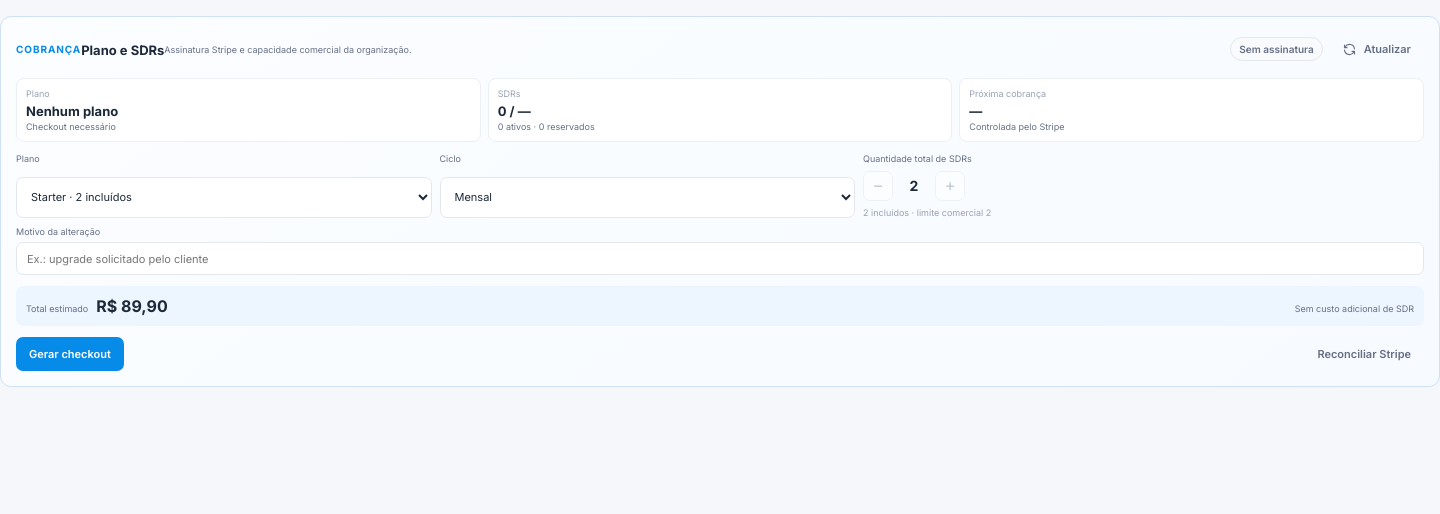
Scenario: gera checkout administrativo com plano e quantidade de SDRs selecionados
Expected: the text "Nenhum plano" is shown, [26, 103, 118, 119]
Select "Growth · 5 incluídos" in the dropdown labelled "Plano" at (224, 197), box [16, 176, 432, 218]
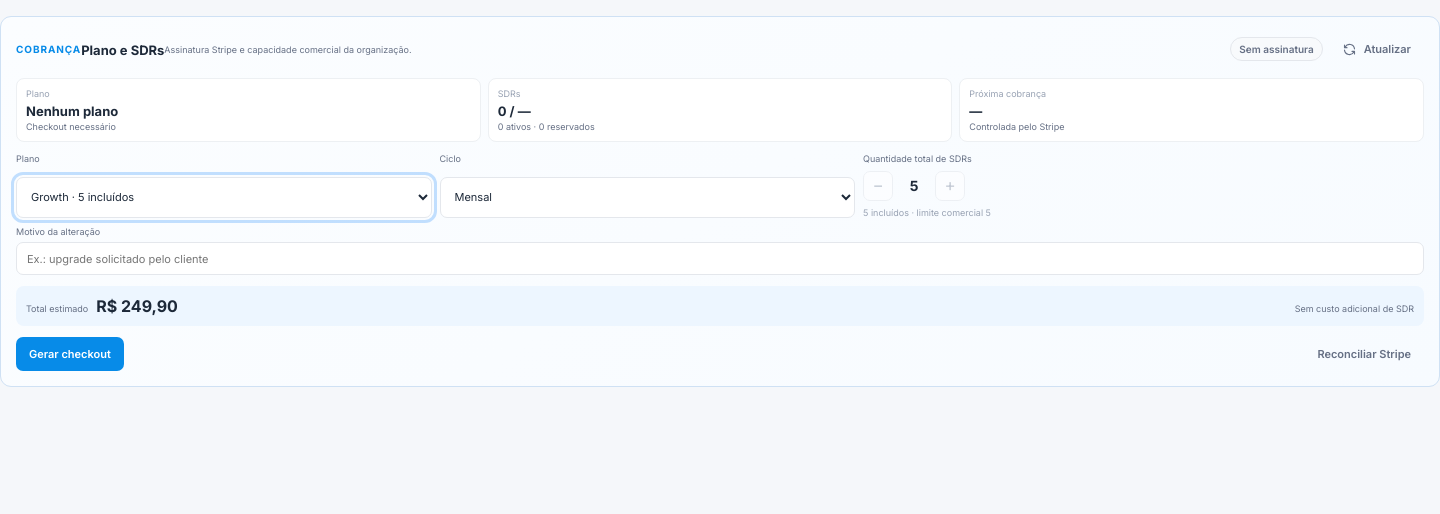
Type "Ativação comercial" into the field with placeholder "Ex.: upgrade solicitado pelo cliente" at (720, 258), box [16, 242, 1424, 275]
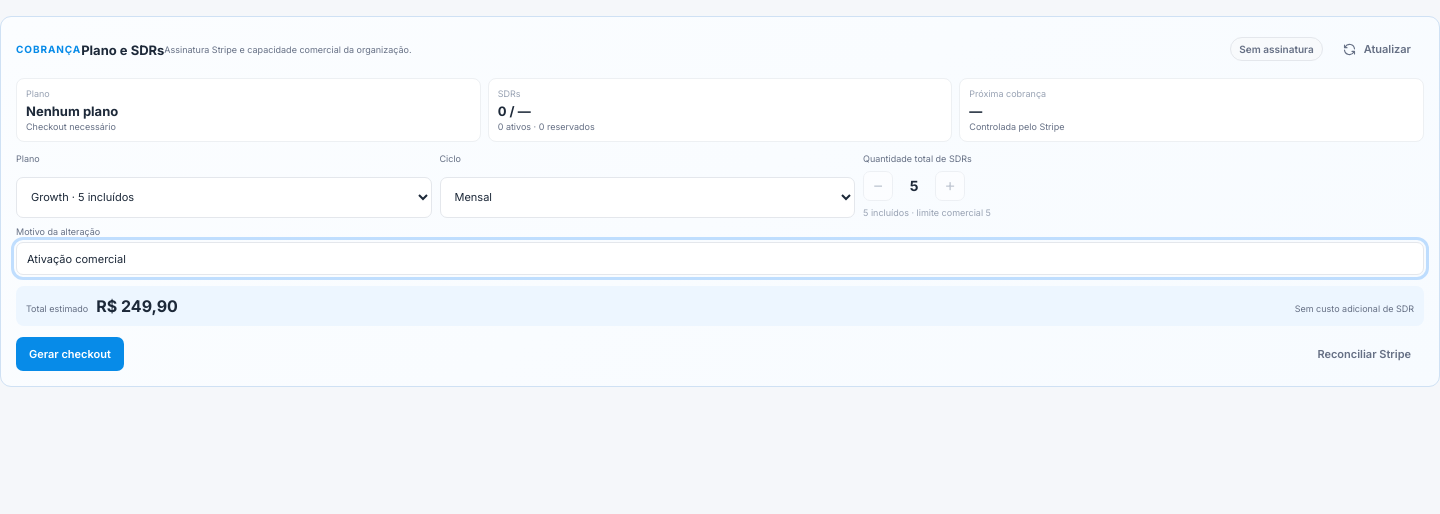
Click the button "Gerar checkout" at (70, 354), box [16, 337, 124, 371]
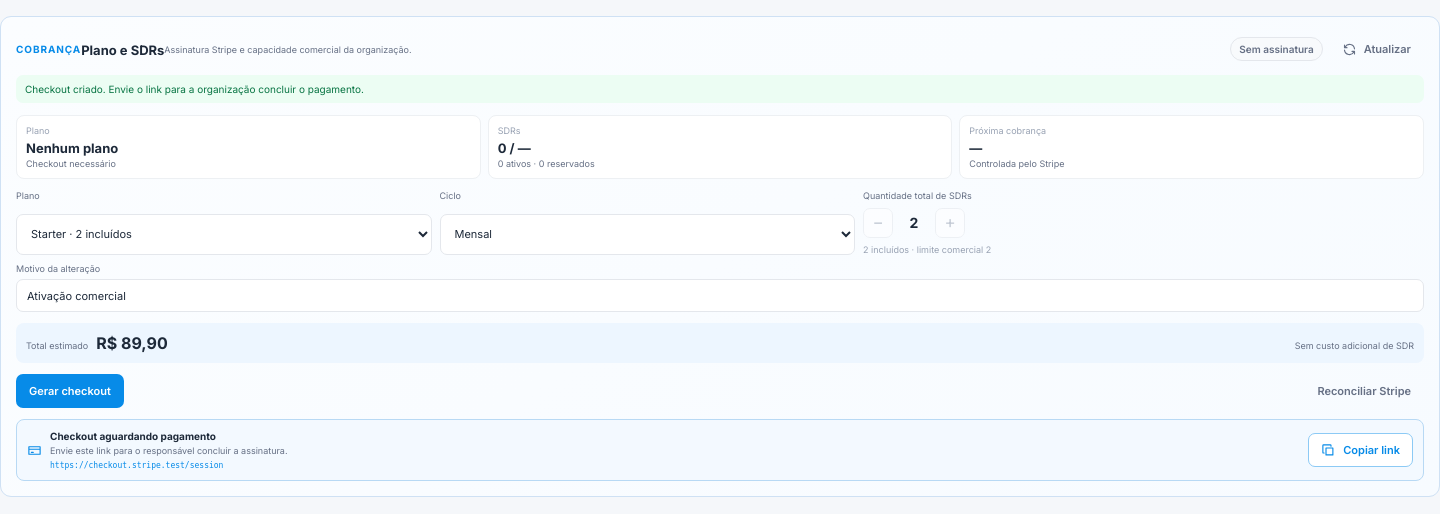
Now the text "Checkout aguardando pagamento" is shown, box [50, 430, 216, 442]
